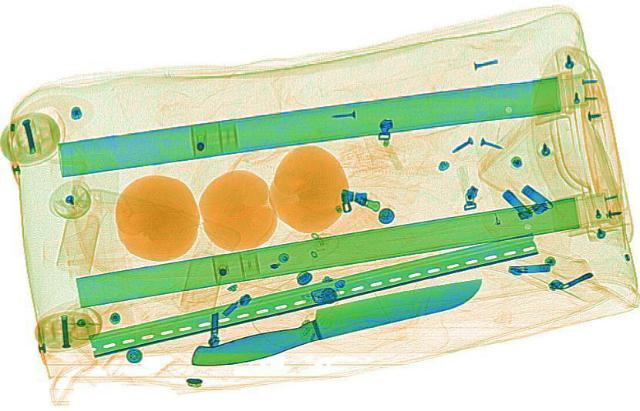Knife: (175, 270, 495, 373)
